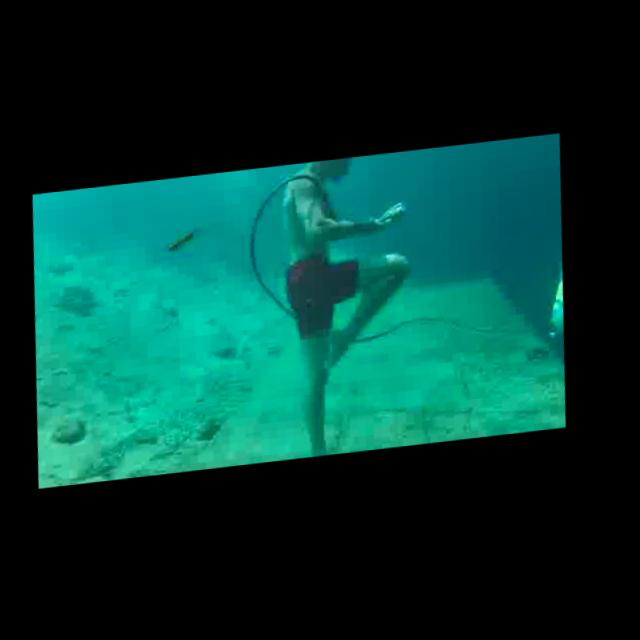human: (269, 152, 441, 462)
